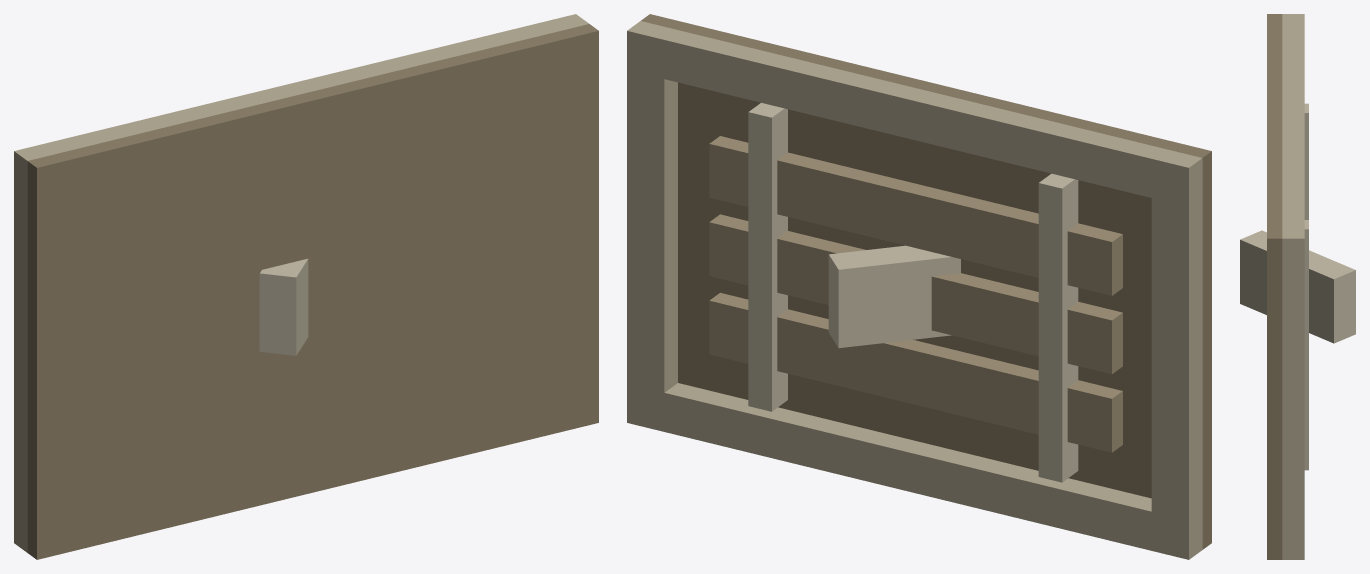
Rendered from wall_relief.glb.
3 views of the same model, side by side, from view 1: azimuth 30°, elevation 25°; view 2: azimuth 150°, elevation 25°; view 3: azimuth 270°, elevation 25° (orthographic). The views are drawn at different scales.
Parts seen in each view (by area): view 1: wall_relief; view 2: wall_relief; view 3: wall_relief.
Boxes of the visible parts, bbox=[...] form: wall_relief: bbox=[14, 14, 598, 559]; wall_relief: bbox=[627, 14, 1211, 559]; wall_relief: bbox=[1240, 14, 1355, 559].
Bounding box in the file's own units: 2.4 × 1.6 × 0.5233.
